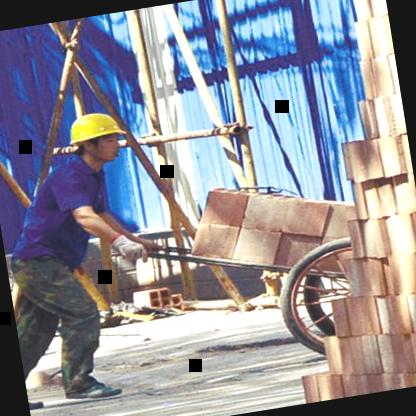helmet: (58, 102, 131, 174)
